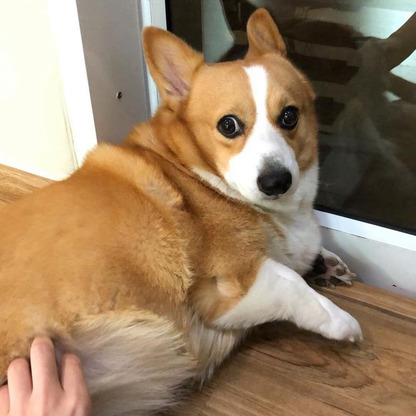Corgi: (41, 20, 372, 367)
